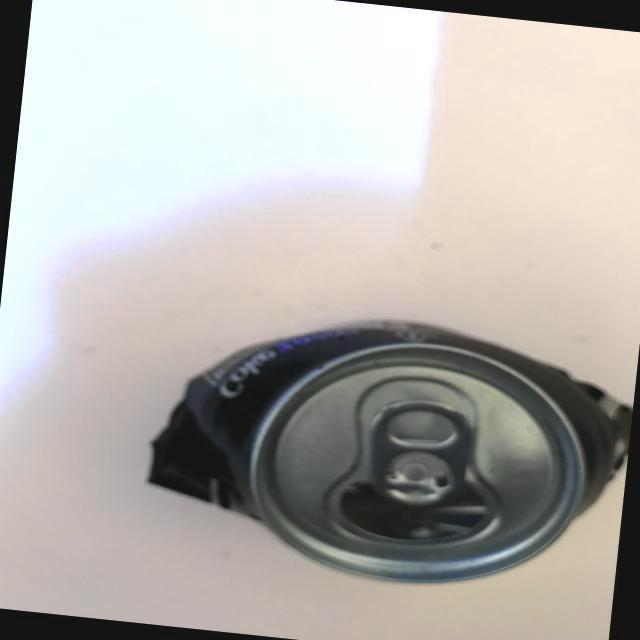metal: (106, 288, 640, 615)
